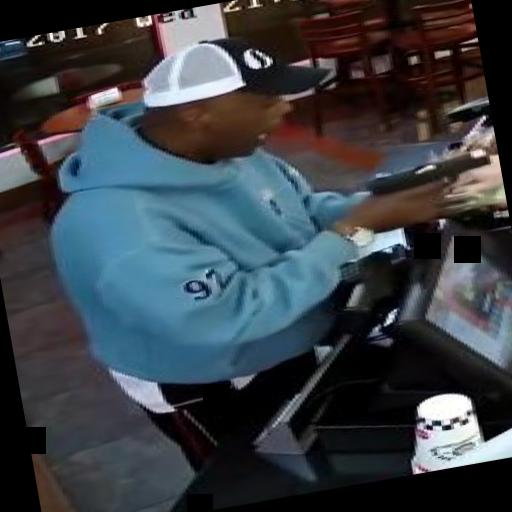Handgun: (362, 144, 498, 224)
